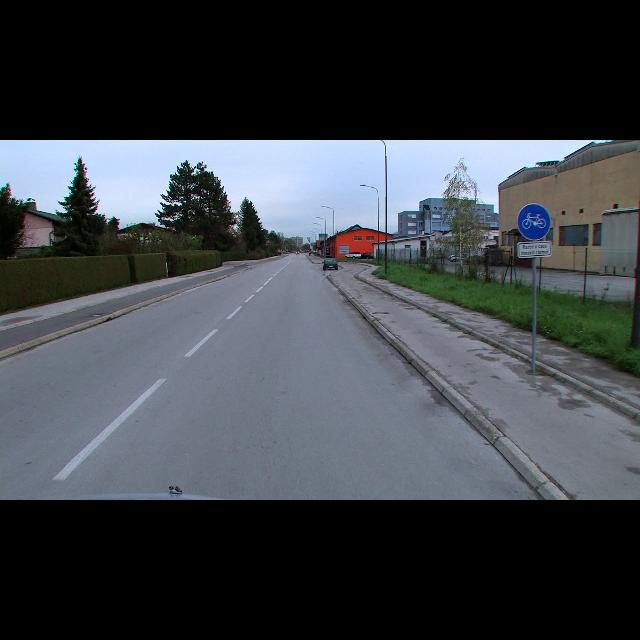Rectangle: (518, 242, 552, 258)
Round: (518, 204, 550, 240)
